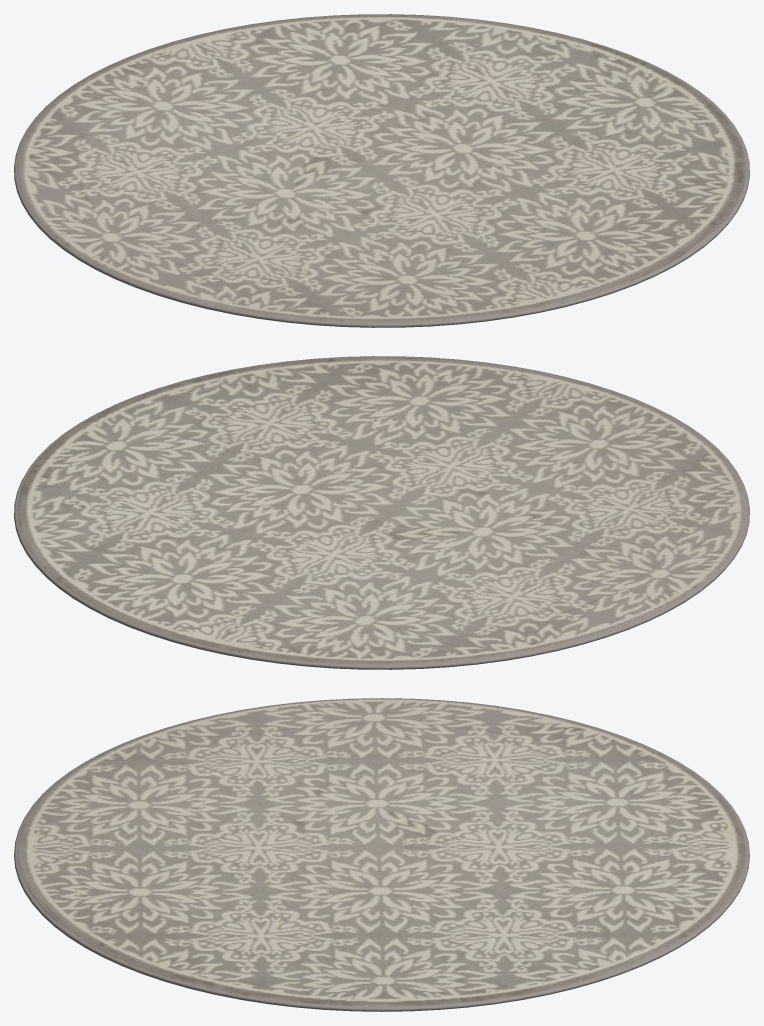
Rendered from rug-round--warm-grey.glb.
The picture shows the model from 3 angles, top to bottom: view 1: azimuth 30°, elevation 25°; view 2: azimuth 150°, elevation 25°; view 3: azimuth 270°, elevation 25°; orthographic projection.
Parts seen in each view (by area): view 1: RootNode; view 2: RootNode; view 3: RootNode.
Part boxes in pixels (left/top/right/bottom): RootNode: left=14, top=14, right=749, bottom=327; RootNode: left=14, top=356, right=749, bottom=669; RootNode: left=14, top=698, right=749, bottom=1011.
Size of the model in its own units: 1.6 by 0.013 by 1.6.
Materials: 1 (1 with a texture image).
